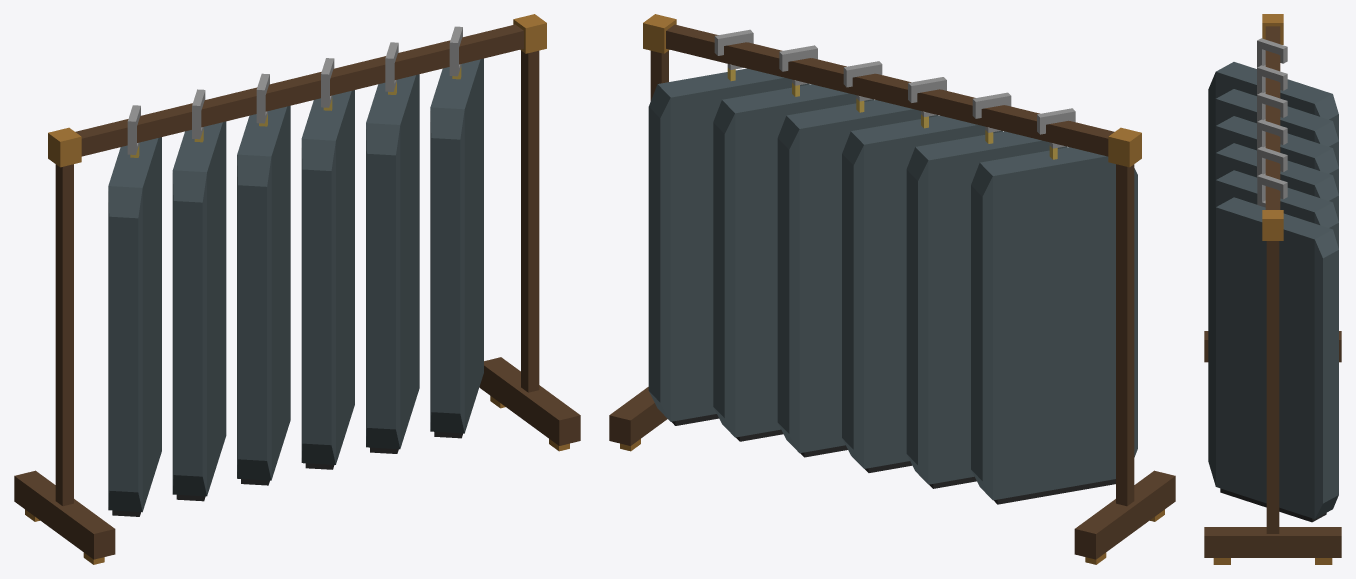
The model's file is stelth_rack_S.fbx.
The picture shows the model from 3 angles, left to right: view 1: azimuth 30°, elevation 25°; view 2: azimuth 150°, elevation 25°; view 3: azimuth 270°, elevation 25°; orthographic projection. The views are drawn at different scales.
Parts seen in each view (by area): view 1: Cube.004, S coat rack; view 2: Cube.004, S coat rack; view 3: Cube.004, S coat rack.
Part boxes in pixels (bbox=[...]): Cube.004: bbox=[108, 26, 483, 516]; S coat rack: bbox=[14, 14, 580, 564]; Cube.004: bbox=[648, 29, 1137, 504]; S coat rack: bbox=[609, 14, 1175, 564]; Cube.004: bbox=[1208, 38, 1338, 522]; S coat rack: bbox=[1204, 14, 1341, 564].
Bounding box in the file's own units: 454 × 364 × 129.
